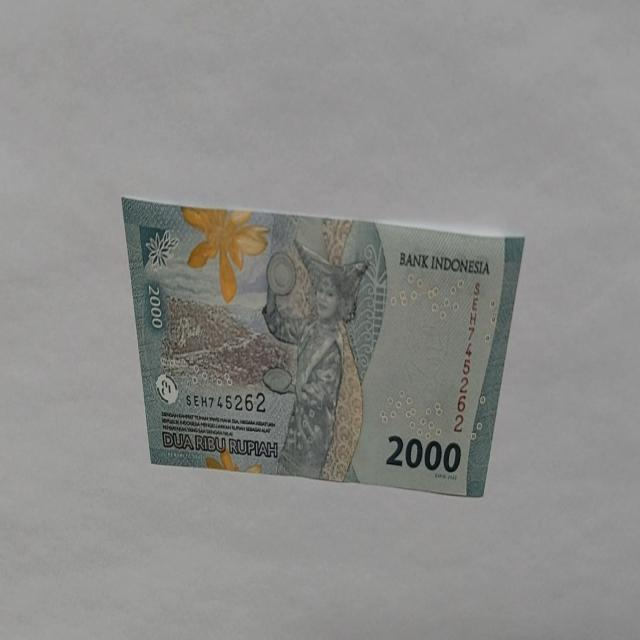dua ribu rupiah: (120, 197, 526, 498), (260, 237, 370, 481)
